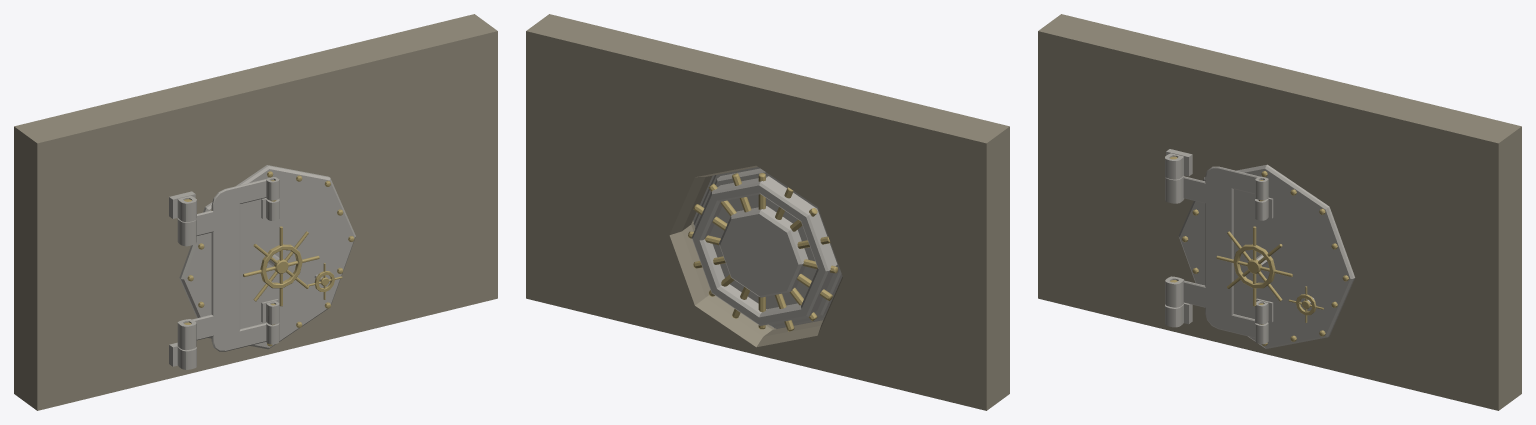
File: VaultDoorClean.fbx
3 views of the same model, side by side, from view 1: azimuth 30°, elevation 25°; view 2: azimuth 150°, elevation 25°; view 3: azimuth 330°, elevation 25° (orthographic).
Parts seen in each view (by area): view 1: MainWall, Door, DoorBrace, BigWheel; view 2: MainWall, Door; view 3: MainWall, Door, DoorBrace, BigWheel.
Boxes of the visible parts, bbox=[...] form: MainWall: bbox=[14, 14, 497, 410]; Door: bbox=[179, 165, 355, 349]; DoorBrace: bbox=[177, 177, 279, 351]; BigWheel: bbox=[243, 226, 319, 306]; MainWall: bbox=[526, 14, 1009, 410]; Door: bbox=[688, 167, 842, 331]; MainWall: bbox=[1038, 14, 1521, 410]; Door: bbox=[1178, 164, 1355, 348]; DoorBrace: bbox=[1165, 166, 1268, 344]; BigWheel: bbox=[1216, 226, 1292, 306].
Size of the model in its own units: 5.65 by 3.14 by 0.8167.
